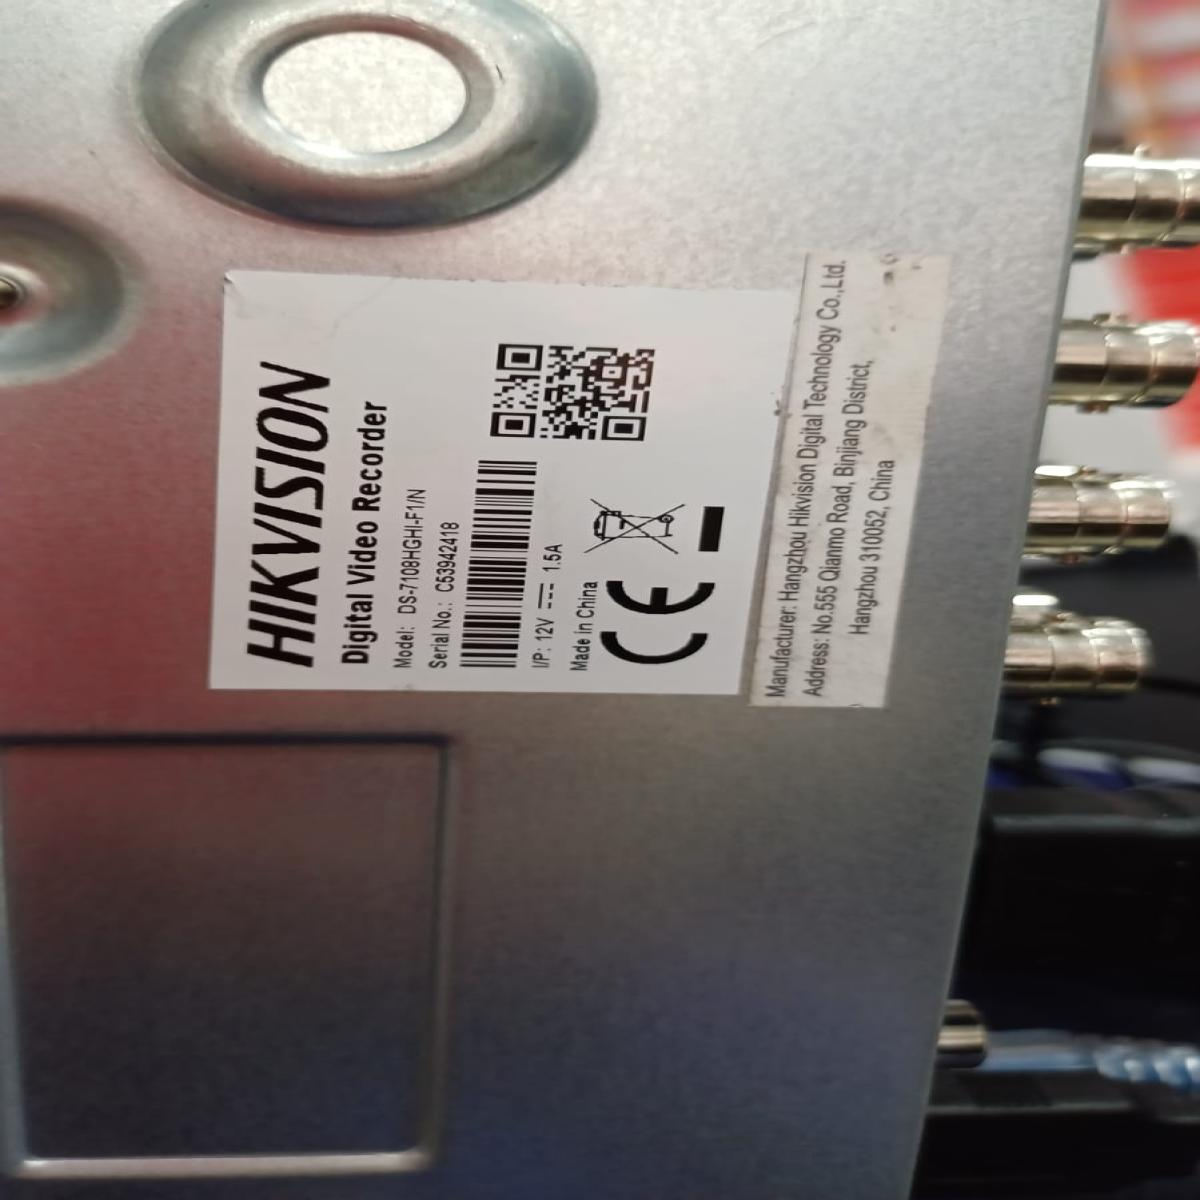Barcode: (452, 456, 548, 676)
Label: (213, 276, 795, 698)
